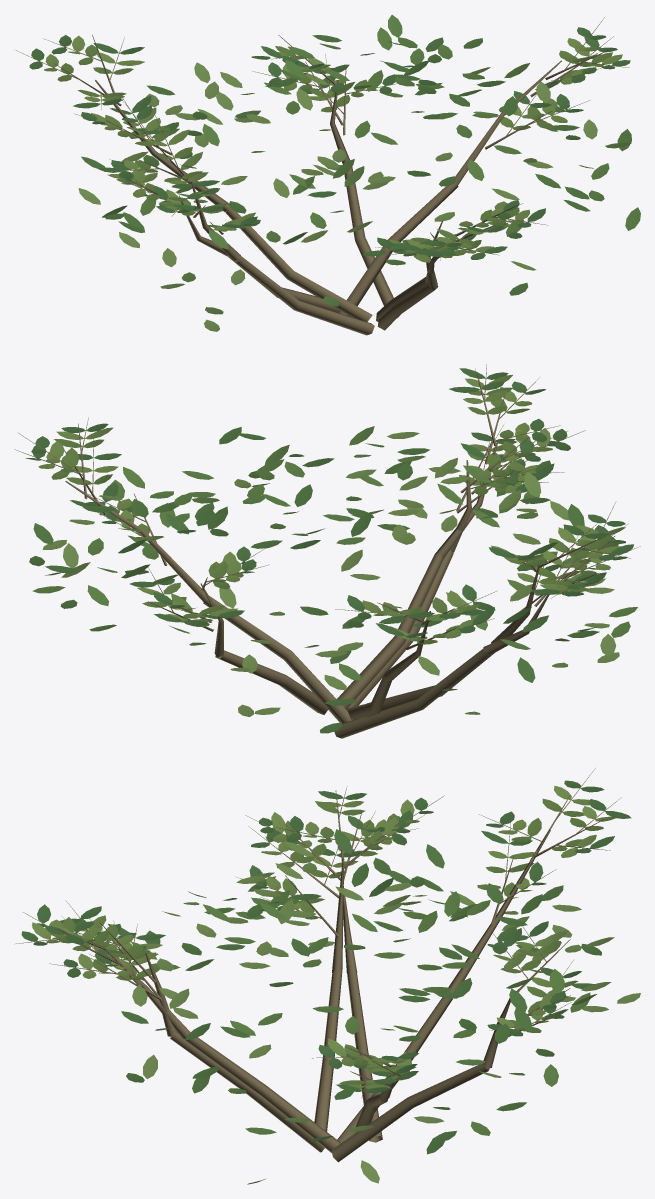
Rendered from LentisqueRampant_0_Low.fbx.
The picture shows the model from 3 angles, top to bottom: view 1: azimuth 30°, elevation 25°; view 2: azimuth 150°, elevation 25°; view 3: azimuth 270°, elevation 25°; orthographic projection. The views are drawn at different scales.
Parts seen in each view (by area): view 1: LentisqueRampant_0_Low; view 2: LentisqueRampant_0_Low; view 3: LentisqueRampant_0_Low.
Part boxes in pixels (x1,y1,x2,y2): LentisqueRampant_0_Low: (14, 15, 640, 335); LentisqueRampant_0_Low: (14, 364, 640, 738); LentisqueRampant_0_Low: (14, 768, 640, 1184).
Bounding box in the file's own units: 211 × 92.39 × 202.
